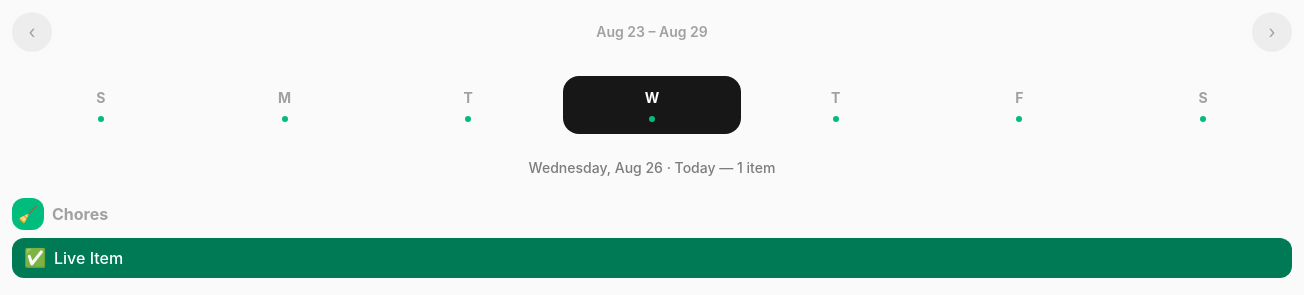
Test: WeekView history › reaches earlier weeks with the previous-week button, and returns with "Back to this week"
Expected: the button "Back to this week" is not shown
Click the button named "Previous week" at (32, 32), box [12,12,52,52]
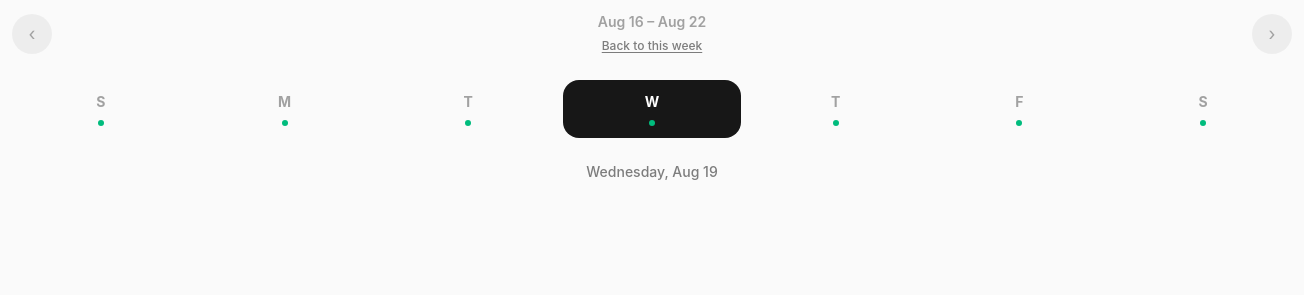
Click the button "Back to this week" at (652, 46), box [602,38,702,54]
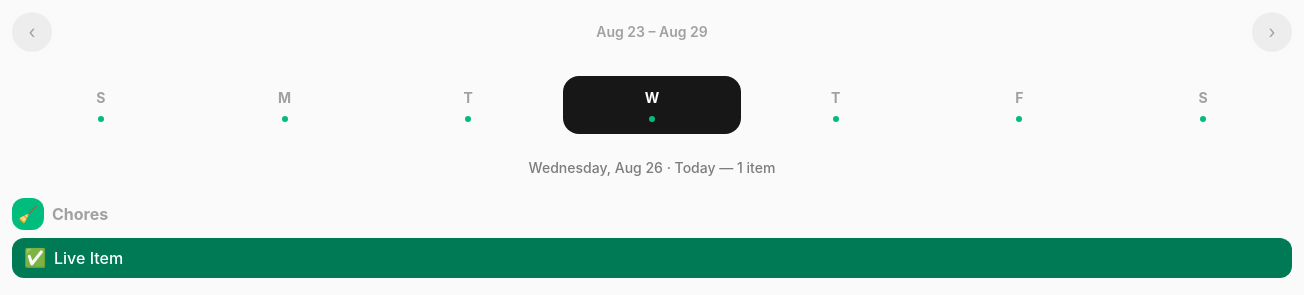
Now the text "Live Item" is shown, box [54,248,123,268]
